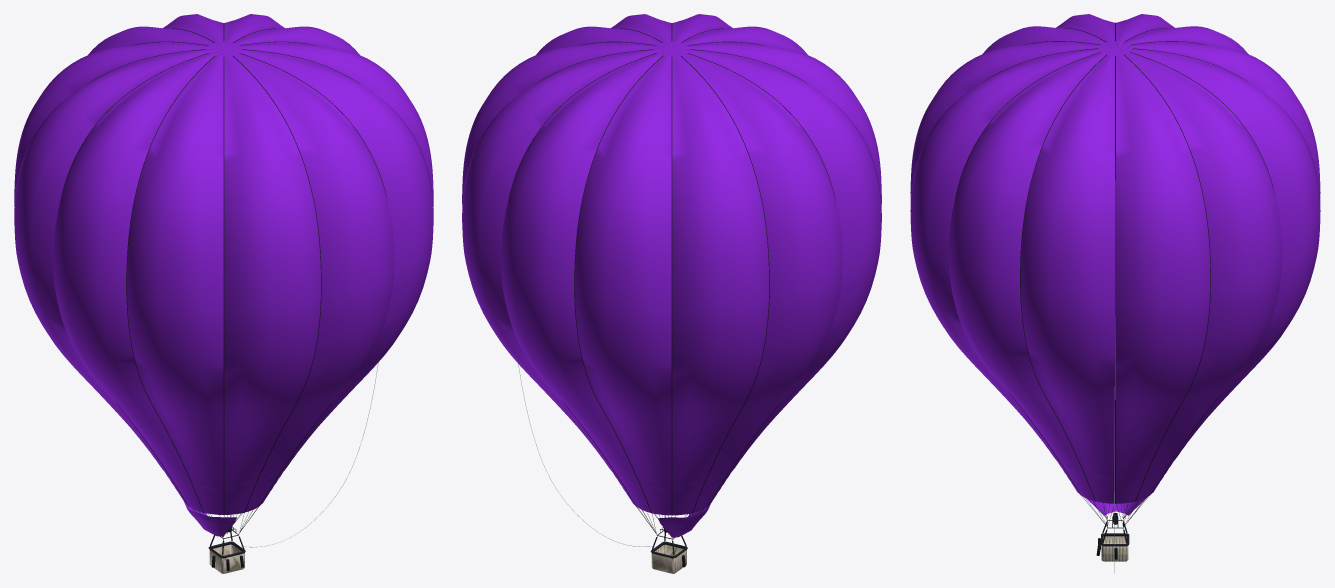
File: globoaerostatico05_definitivo02.obj
3 views of the same model, side by side, from view 1: azimuth 30°, elevation 25°; view 2: azimuth 150°, elevation 25°; view 3: azimuth 270°, elevation 25° (orthographic). The views are drawn at different scales.
Parts seen in each view (by area): view 1: Globo_Tela, Cuerdas_de_La_tela Form84, Barquilla, Paraviento, Cuerdas_de_La_tela Form90, Cuerdas_de_La_tela Form89; view 2: Globo_Tela, Cuerdas_de_La_tela Form82, Barquilla, Paraviento, Cuerdas_de_La_tela Form87, Cuerdas_de_La_tela Form88; view 3: Globo_Tela, Barquilla, Cuerdas_de_La_tela Form86, Cuerdas_de_La_tela Form91.
Part boxes in pixels (left/top/right/bottom): Globo_Tela: left=14, top=14, right=433, bottom=514; Cuerdas_de_La_tela Form84: left=223, top=57, right=224, bottom=514; Barquilla: left=209, top=544, right=244, bottom=573; Paraviento: left=184, top=502, right=236, bottom=536; Cuerdas_de_La_tela Form90: left=233, top=56, right=321, bottom=512; Cuerdas_de_La_tela Form89: left=126, top=56, right=214, bottom=512; Globo_Tela: left=462, top=14, right=881, bottom=515; Cuerdas_de_La_tela Form82: left=671, top=57, right=672, bottom=515; Barquilla: left=651, top=544, right=686, bottom=573; Paraviento: left=658, top=504, right=710, bottom=537; Cuerdas_de_La_tela Form87: left=574, top=56, right=662, bottom=513; Cuerdas_de_La_tela Form88: left=681, top=56, right=769, bottom=513; Globo_Tela: left=910, top=14, right=1320, bottom=503; Barquilla: left=1101, top=536, right=1128, bottom=561; Cuerdas_de_La_tela Form86: left=1124, top=54, right=1210, bottom=501; Cuerdas_de_La_tela Form91: left=1020, top=54, right=1106, bottom=501.
Size of the model in its own units: 0.5027 by 0.6859 by 0.5027.
Materials: 5 (1 with a texture image).
